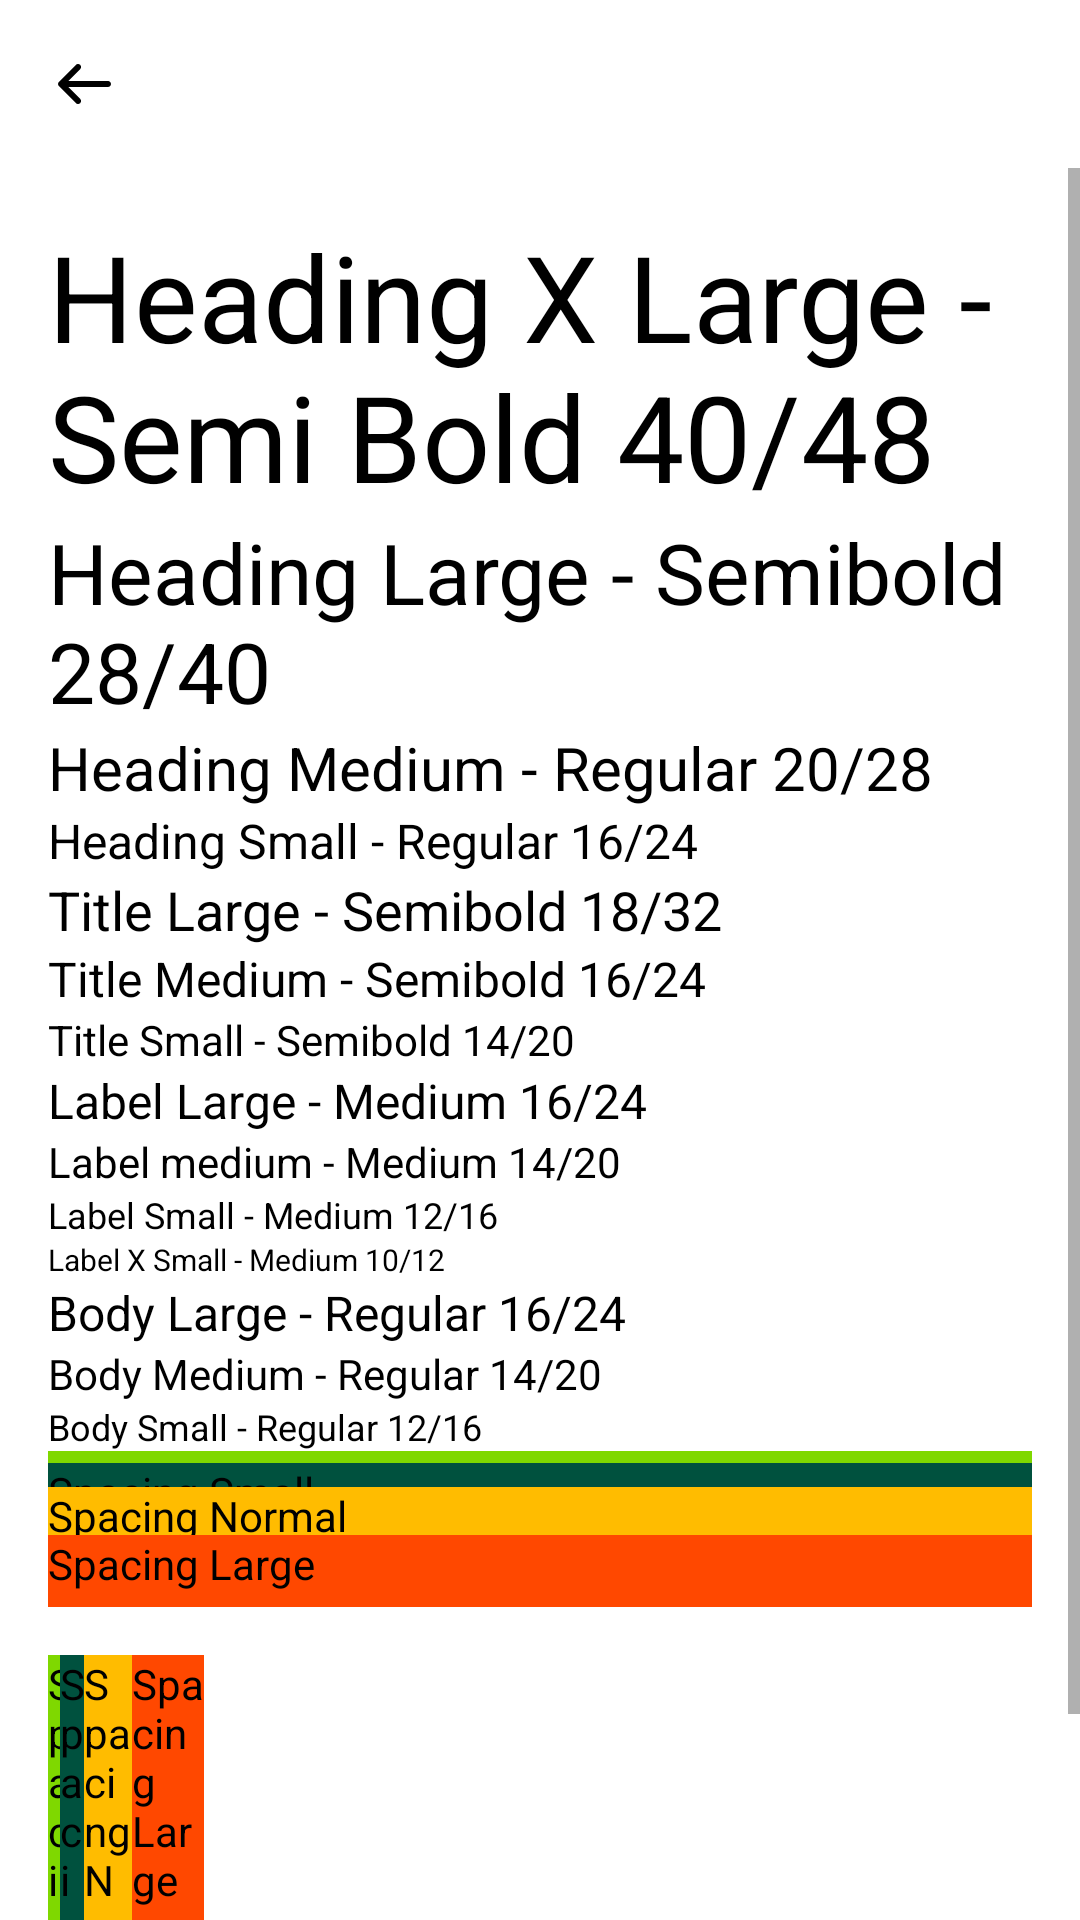

Named icons in this screenshot (1080 x 1920) and their centers, (x,y):
back: (84,84)
